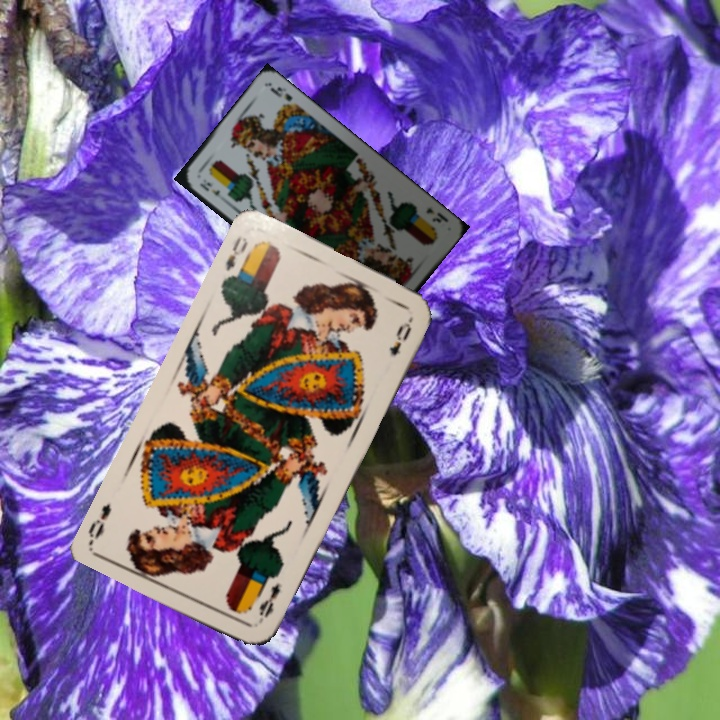EK: (195, 178, 228, 204), (422, 204, 451, 226)
EO: (254, 578, 283, 627), (221, 232, 251, 274)
